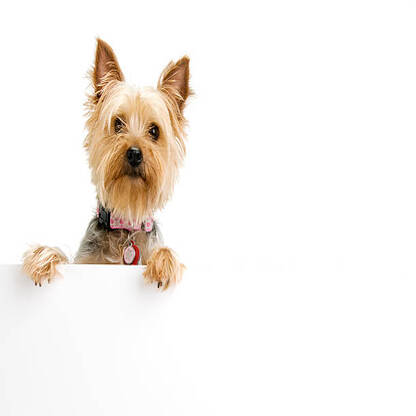yorkshire: (21, 35, 193, 290)
